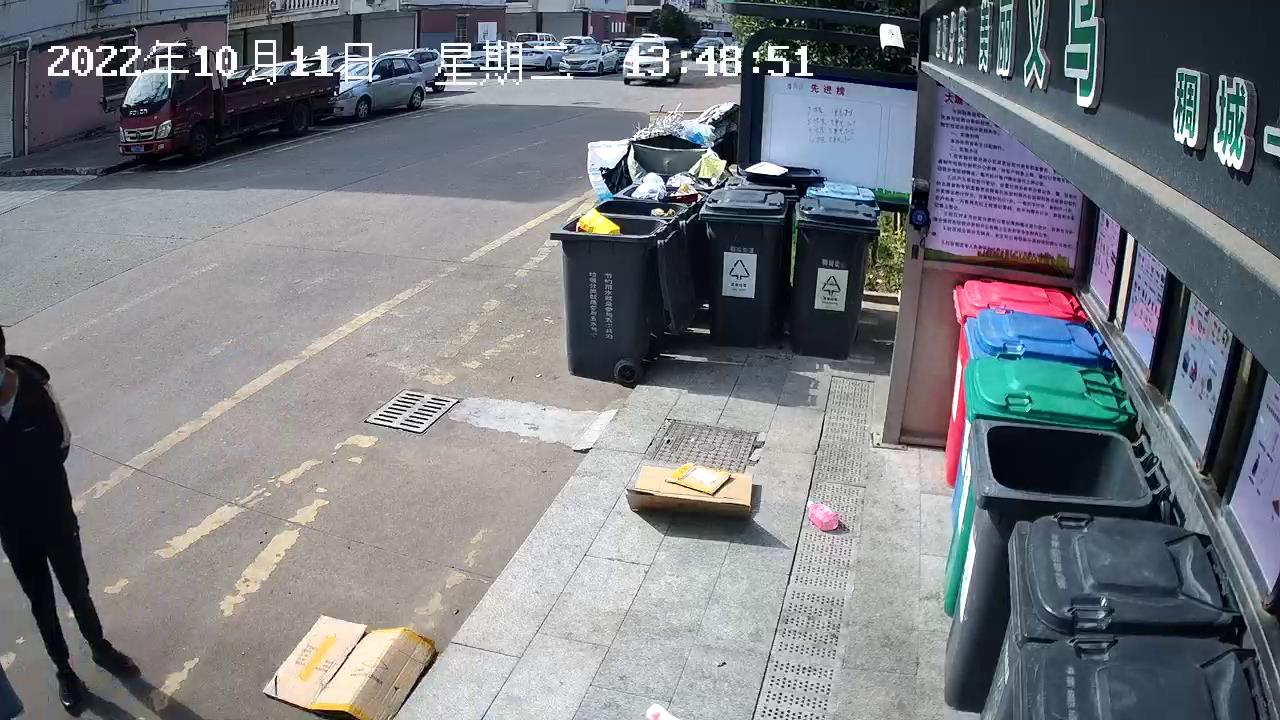suliaozhipin: (803, 494, 844, 535)
zhizhipin: (258, 606, 444, 720), (621, 458, 761, 523)
